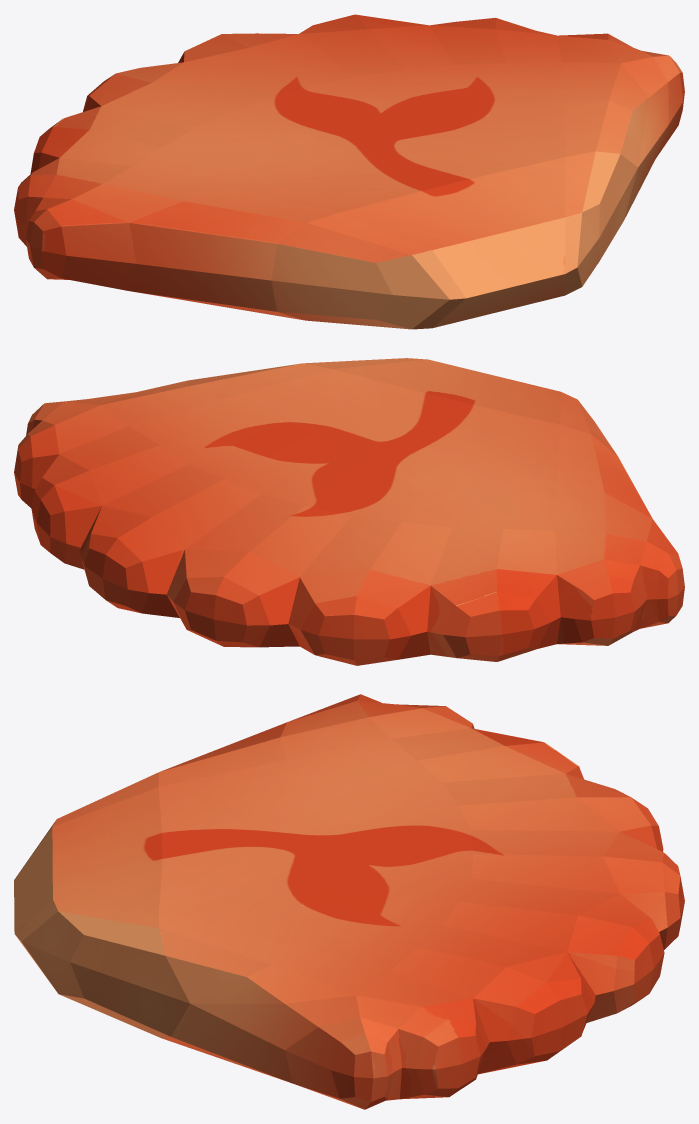
Rendered from shell1.glb.
The picture shows the model from 3 angles, top to bottom: view 1: azimuth 30°, elevation 25°; view 2: azimuth 150°, elevation 25°; view 3: azimuth 270°, elevation 25°; orthographic projection. The views are drawn at different scales.
Parts seen in each view (by area): view 1: shell; view 2: shell; view 3: shell.
Part boxes in pixels (left/top/right/bottom): shell: left=14, top=14, right=684, bottom=329; shell: left=14, top=358, right=684, bottom=665; shell: left=14, top=694, right=684, bottom=1109.
Size of the model in its own units: 2.13 by 0.3195 by 1.71.
Materials: 1 (1 with a texture image).
